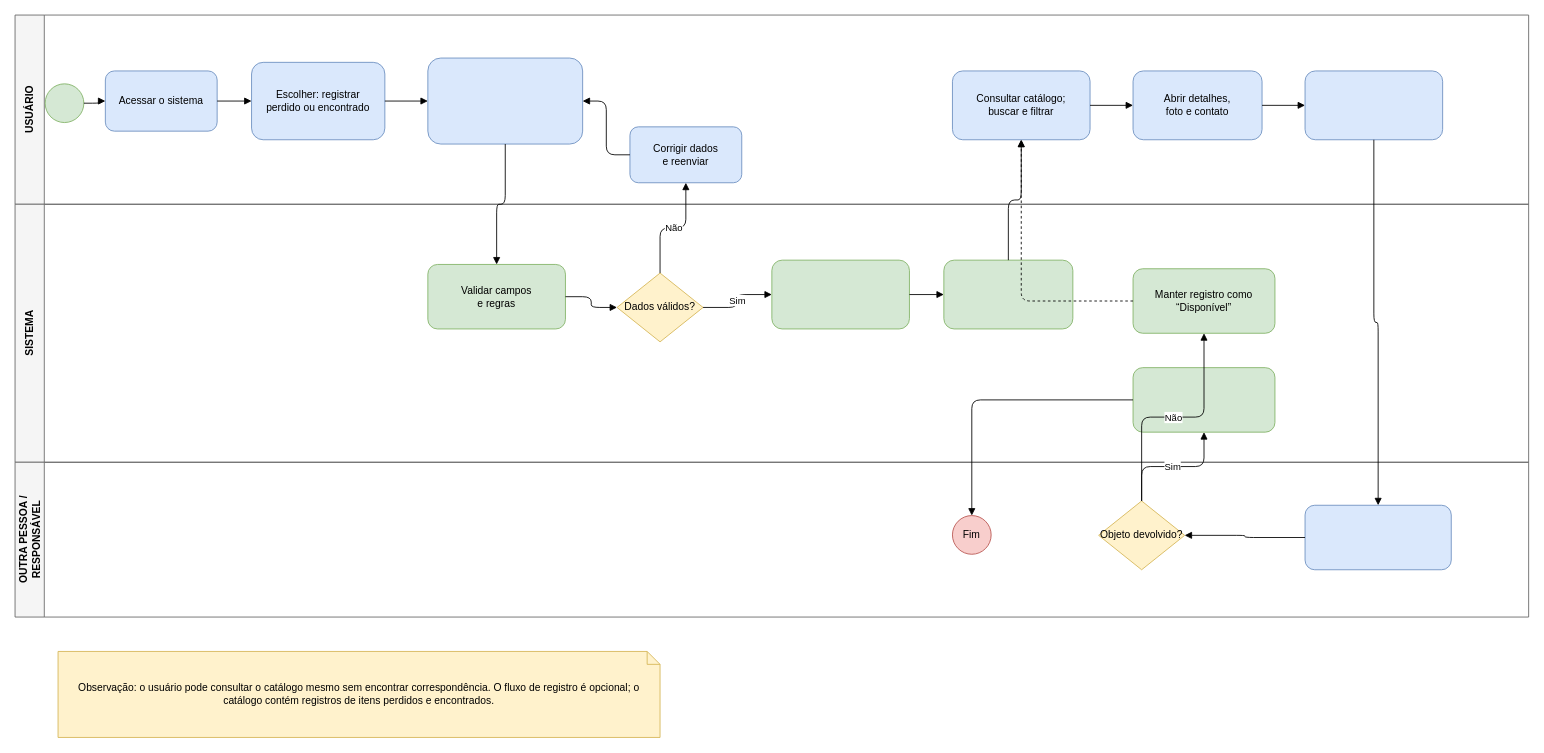
This 1544x753 diagram has some shape labels left out. The centre of each missing label's shape, as x and y in pixels:
Atualizar status para “Recuperado”: point 1203,399
Disponibilizar no catálogo: point 1008,294
Entrar em contato com responsável: point 1373,105
Início: point 64,103
Preencher formulário (nome, descrição, categoria, local, foto e contato): point 505,100
Receber contato e combinar devolução: point 1377,537
Salvar registro no banco de dados: point 840,294
